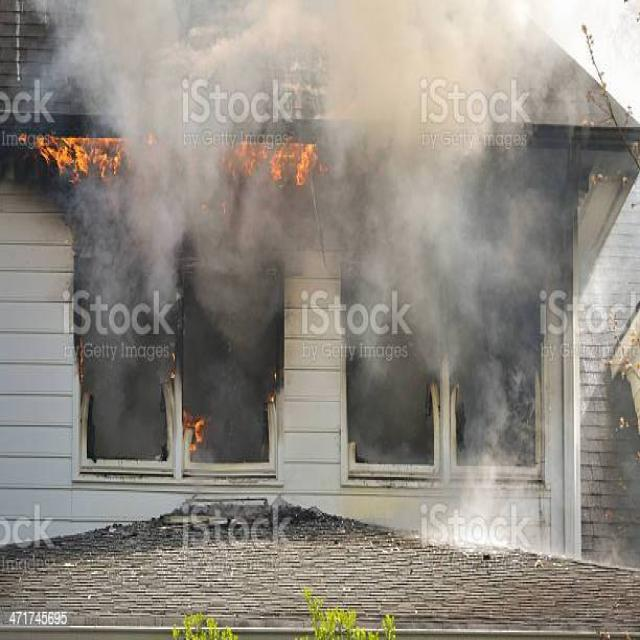Fire: (19, 132, 124, 176), (237, 140, 331, 180), (182, 409, 206, 451)
Smoke: (334, 4, 550, 332), (54, 1, 332, 133), (71, 180, 332, 292), (444, 344, 529, 548), (126, 135, 236, 183)
